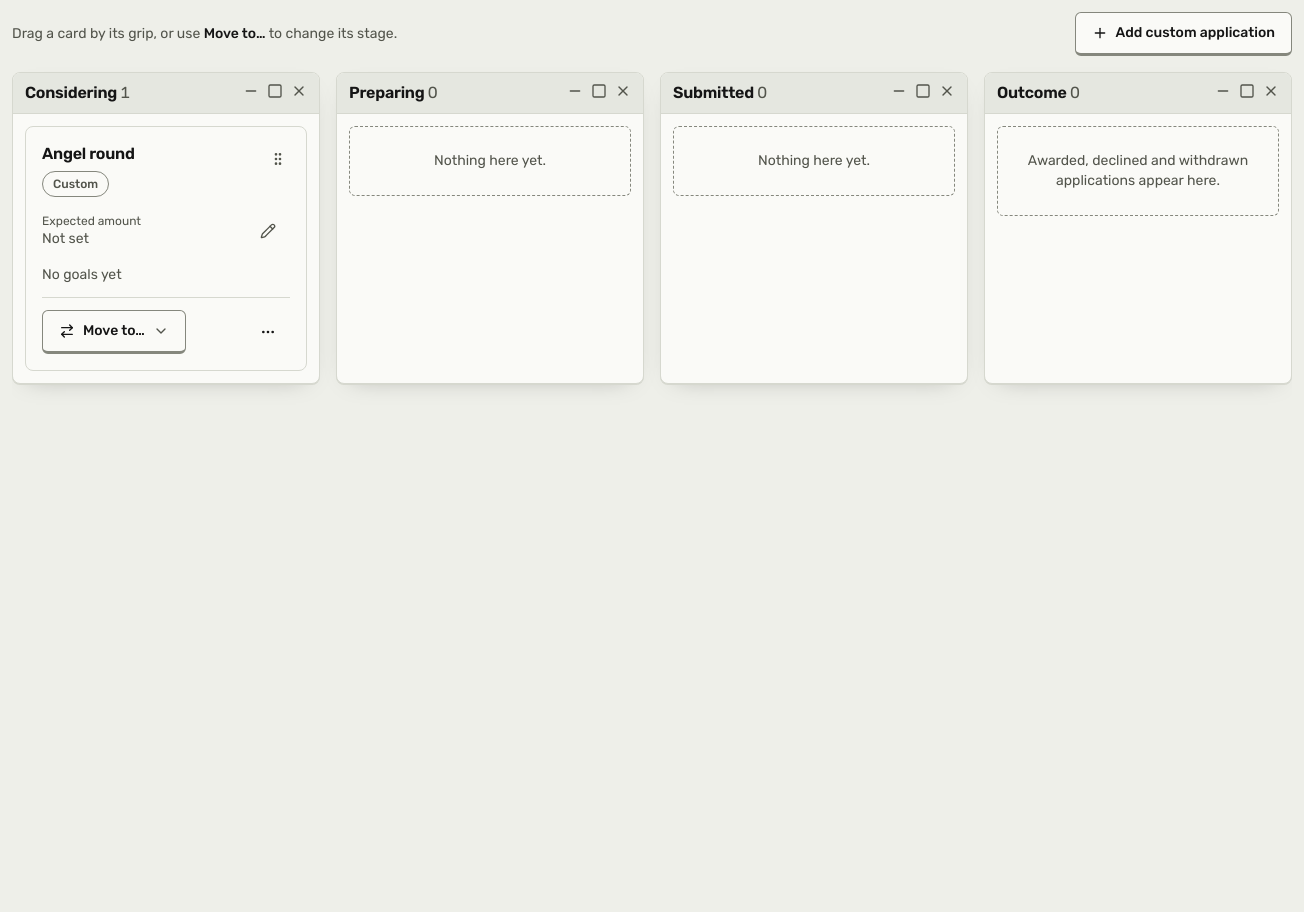
Test: PipelineBoard milestone cheers › cheers an award and links to the calendar
What coordinates should you click on to do the following:
click the button with aria-label "Move Angel round to…"
I would click on:
 (114, 332)
Its box is [42,310,186,354].
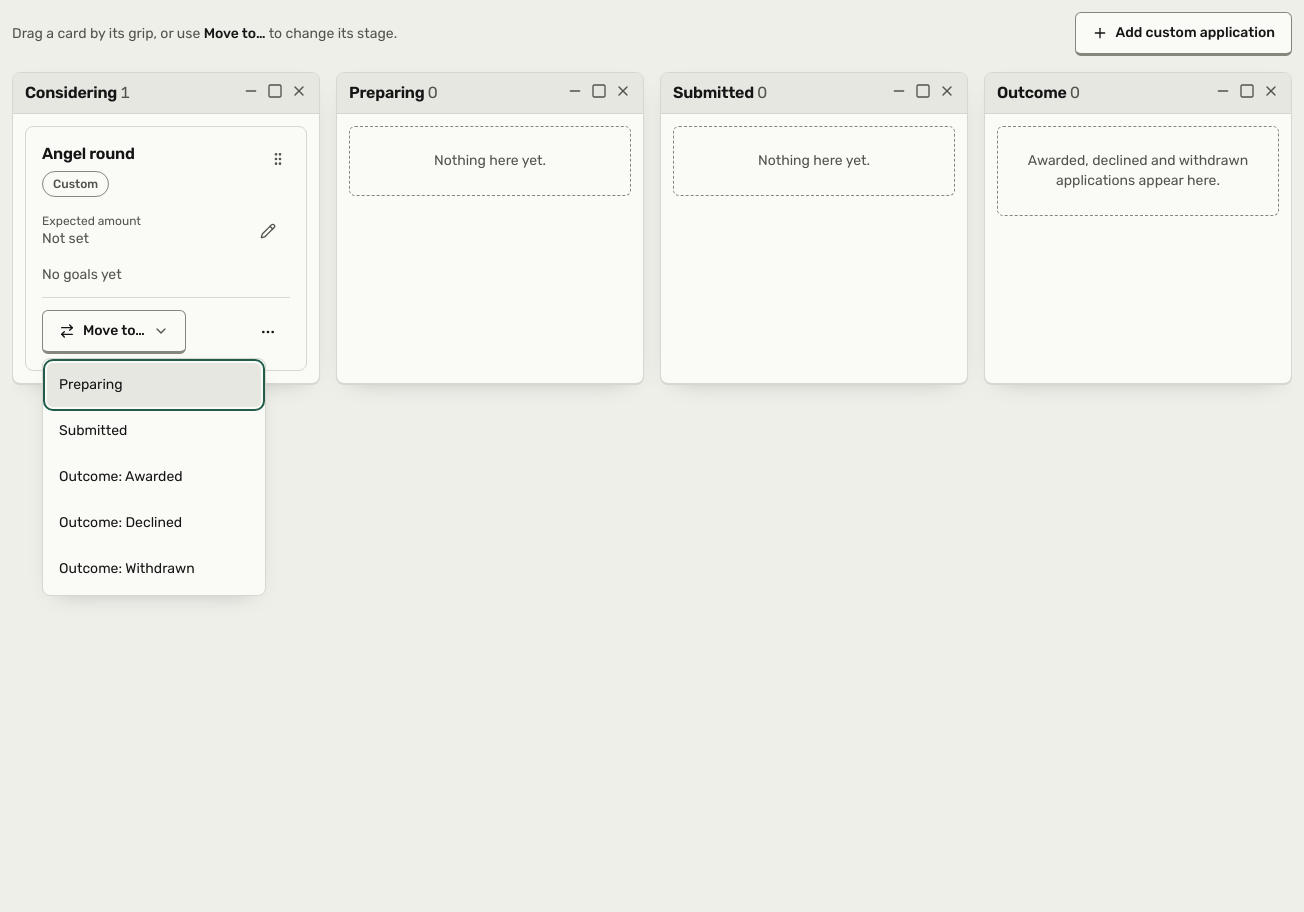
What coordinates should you click on to do the following:
click the menu item "Outcome: Awarded"
I would click on:
 (154, 477)
Its box is [47,455,261,499].
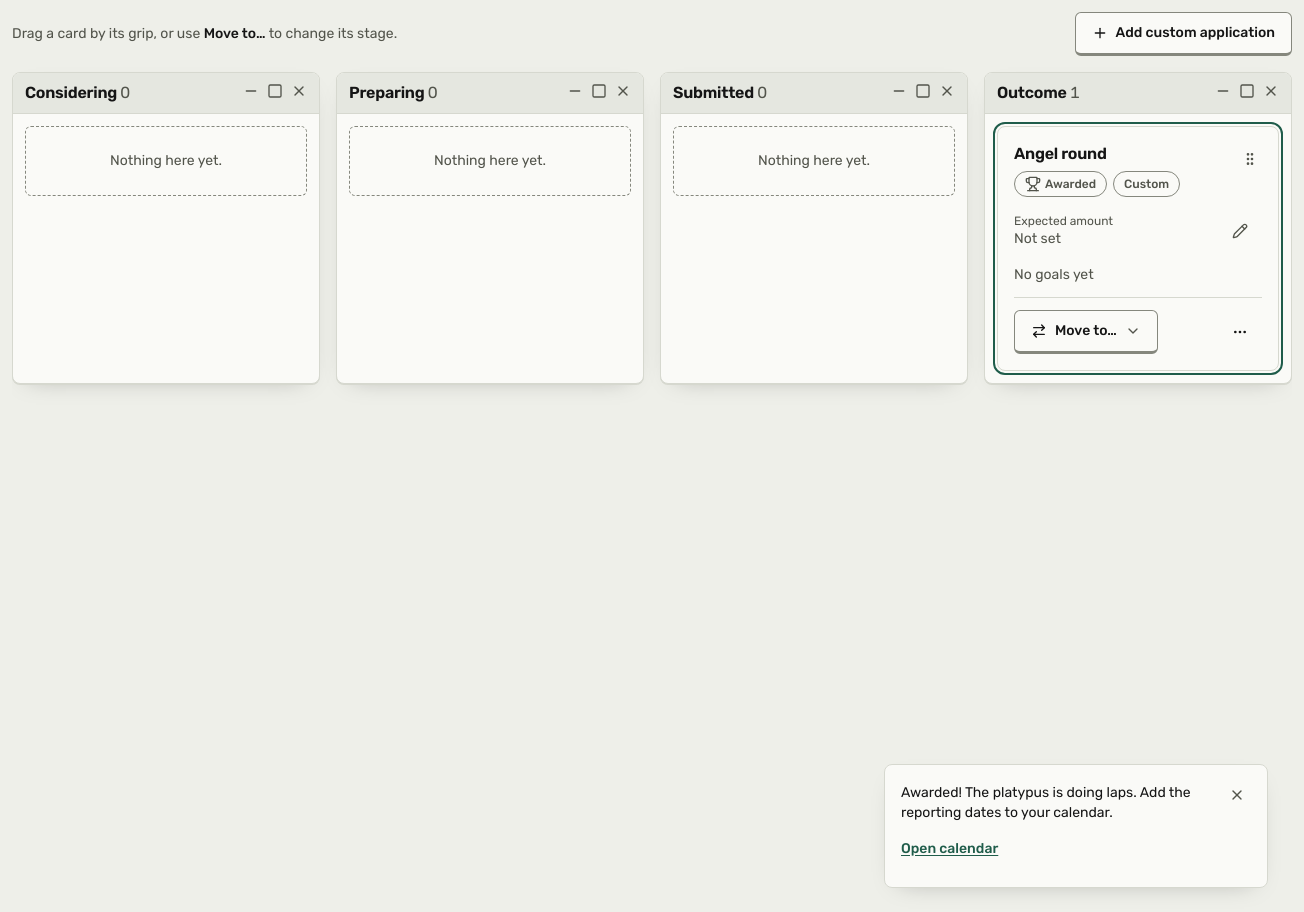
Result: the text "Awarded! The platypus is doing laps. Add the reporting dates to your calendar." is shown at [901,783,1211,823]
